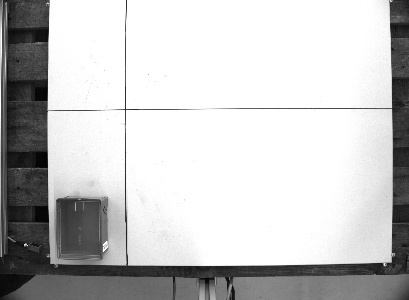klts: (54, 193, 111, 262)
